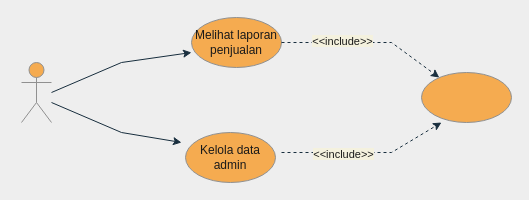
The diagram is 529 pixels wide and 200 high, and some of its shapes have lost their labels. Here are the shapes that lost their labels. From the top down, the box of each, then its label:
(20, 62, 52, 122): Pemilik
(420, 72, 512, 122): login
